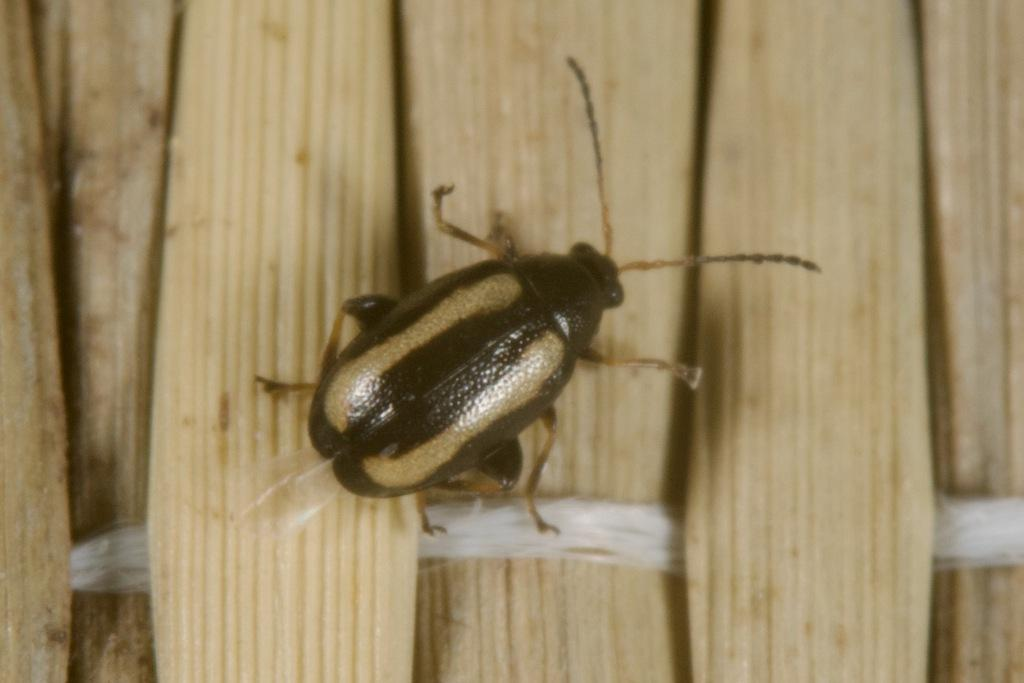flea_beetle: (163, 7, 912, 622)
